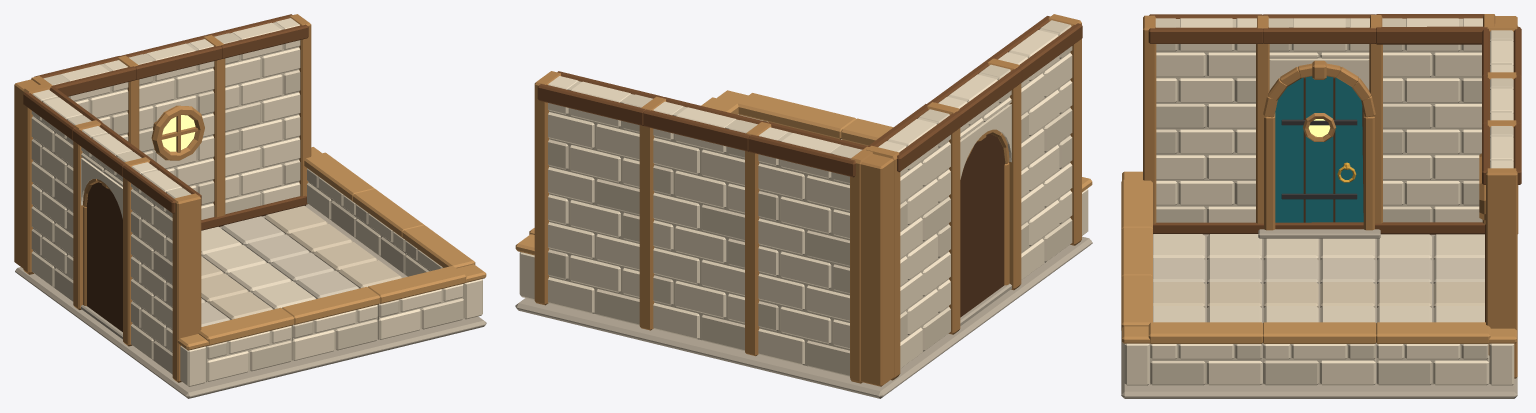
Rendered from homes_room_example.glb.
3 renders of one model, left to right at view 1: azimuth 30°, elevation 25°; view 2: azimuth 150°, elevation 25°; view 3: azimuth 270°, elevation 25°, orthographic. The views are drawn at different scales.
Parts seen in each view (by area): view 1: homes_room_example; view 2: homes_room_example; view 3: homes_room_example, part_door_leaf.
Boxes of the visible parts, x1,y1,x2,y2 form: homes_room_example: [14, 14, 486, 398]; homes_room_example: [515, 14, 1092, 398]; homes_room_example: [1121, 14, 1521, 398]; part_door_leaf: [1275, 76, 1363, 222].
Bounding box in the file's own units: 3.54 × 2.14 × 3.53.
